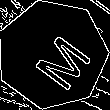M_NW: (18, 21, 87, 88)
